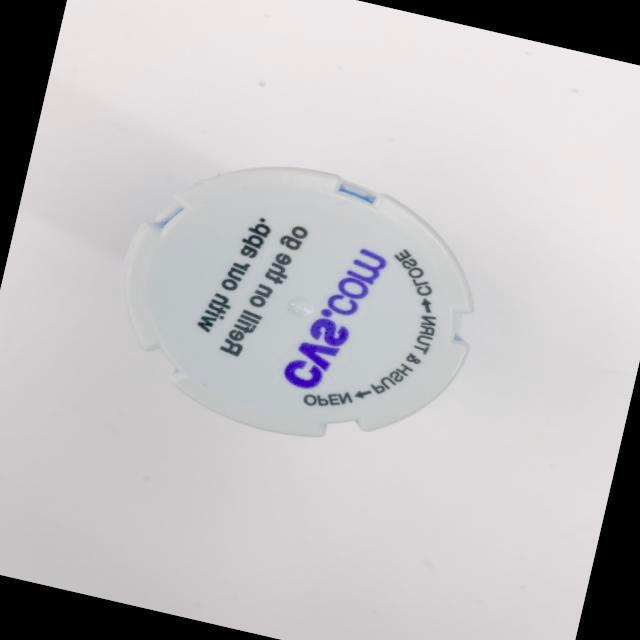plastic: (64, 117, 518, 490)
